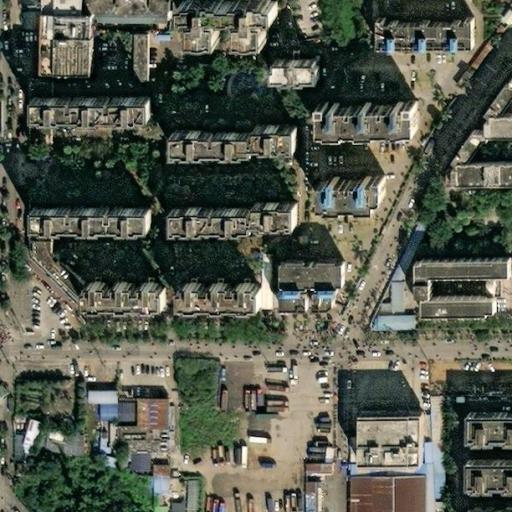building: (41, 16, 102, 81), (24, 214, 151, 244), (356, 411, 421, 460), (376, 19, 472, 52), (34, 255, 85, 310), (309, 100, 404, 129), (344, 476, 419, 512), (32, 103, 149, 124), (379, 222, 417, 286), (315, 176, 394, 206), (82, 287, 166, 313), (180, 290, 261, 316), (166, 203, 248, 228), (171, 132, 250, 154), (40, 424, 86, 460), (291, 268, 354, 294), (289, 293, 354, 316), (455, 134, 493, 173), (459, 411, 512, 438), (460, 457, 512, 484), (223, 65, 267, 96), (427, 308, 499, 325), (248, 199, 296, 222), (23, 234, 51, 273), (271, 63, 320, 84), (253, 126, 294, 149), (365, 313, 411, 333), (127, 32, 145, 82), (132, 399, 163, 428), (480, 81, 507, 114), (372, 280, 397, 314), (16, 419, 37, 451), (116, 452, 144, 474), (109, 401, 130, 427), (178, 480, 193, 512), (295, 479, 309, 512), (457, 505, 512, 512), (420, 285, 438, 305), (82, 389, 109, 402), (90, 401, 109, 419), (143, 474, 161, 492), (5, 430, 15, 459), (342, 464, 350, 476), (419, 474, 425, 483)
